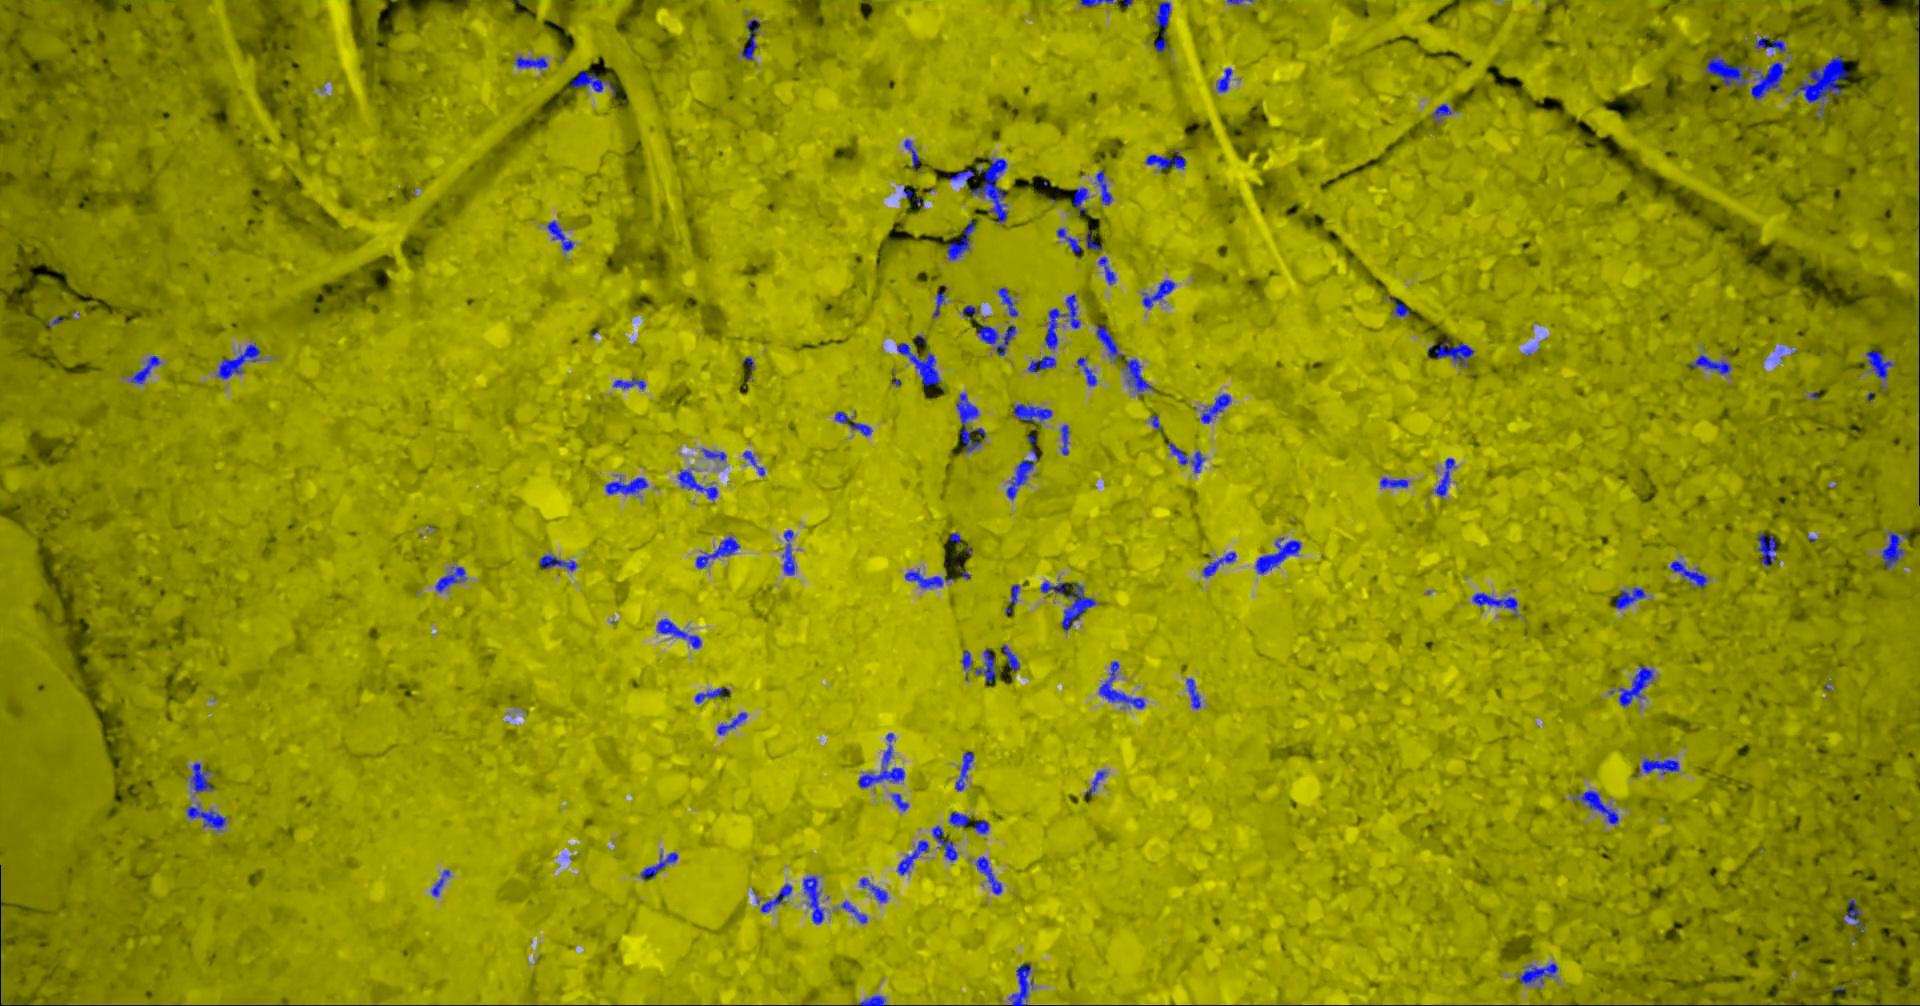ant: (1040, 580, 1095, 630), (858, 732, 904, 788), (1098, 661, 1144, 708), (1044, 293, 1079, 349), (897, 342, 940, 386), (956, 392, 985, 452), (1004, 448, 1037, 499), (216, 342, 260, 379), (1255, 537, 1300, 573), (1573, 789, 1618, 823), (1618, 666, 1653, 706), (695, 536, 739, 568), (657, 619, 701, 648), (677, 469, 717, 499), (975, 324, 1015, 354), (570, 71, 615, 97), (1167, 442, 1204, 473), (1095, 323, 1124, 361), (946, 220, 974, 259), (897, 840, 928, 874), (1427, 342, 1474, 365), (1669, 560, 1708, 587), (185, 803, 225, 829), (1124, 358, 1156, 391), (1472, 592, 1517, 615), (1008, 962, 1032, 1005), (1881, 531, 1907, 568), (640, 852, 677, 879), (803, 875, 823, 923), (975, 856, 1001, 894), (931, 826, 957, 861), (1200, 392, 1230, 423), (1142, 279, 1175, 307), (130, 354, 160, 384), (759, 883, 791, 911), (904, 570, 954, 588), (834, 412, 872, 434), (1864, 351, 1895, 379), (1517, 962, 1557, 983), (1153, 0, 1170, 51), (1203, 551, 1236, 577), (546, 220, 573, 250), (1145, 151, 1185, 171), (1434, 457, 1454, 497), (1688, 354, 1730, 373), (1013, 403, 1051, 423), (436, 567, 466, 592), (1057, 227, 1082, 257), (858, 876, 888, 902), (975, 648, 996, 683), (604, 478, 648, 494), (742, 19, 759, 58), (955, 751, 973, 790), (1613, 587, 1644, 608), (716, 713, 747, 734), (189, 762, 211, 793), (1757, 532, 1777, 565), (538, 554, 577, 570), (742, 450, 764, 475), (1641, 758, 1679, 774), (841, 901, 866, 923), (1076, 357, 1096, 385), (1095, 170, 1111, 205), (998, 287, 1017, 316), (1084, 770, 1106, 795), (1846, 899, 1863, 932), (1070, 187, 1088, 217), (695, 687, 730, 702), (782, 528, 794, 575), (1754, 36, 1785, 52), (903, 138, 919, 170), (430, 869, 450, 895), (1097, 257, 1115, 285), (999, 644, 1018, 669), (513, 55, 547, 69), (1027, 354, 1055, 371), (1185, 678, 1200, 708), (1004, 584, 1018, 614), (1084, 227, 1102, 250), (1432, 103, 1451, 123), (1389, 298, 1410, 318), (932, 291, 945, 318), (1217, 67, 1230, 91), (949, 810, 969, 827), (613, 377, 645, 387), (891, 793, 908, 810), (701, 448, 725, 460), (961, 650, 971, 677), (858, 995, 885, 1005), (1379, 478, 1407, 486), (1079, 0, 1117, 6), (963, 304, 979, 318), (973, 819, 989, 833), (1060, 424, 1068, 453)
